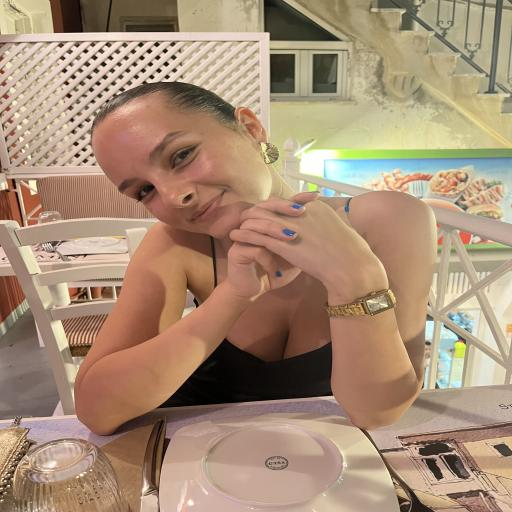marija: (87, 96, 280, 239)
